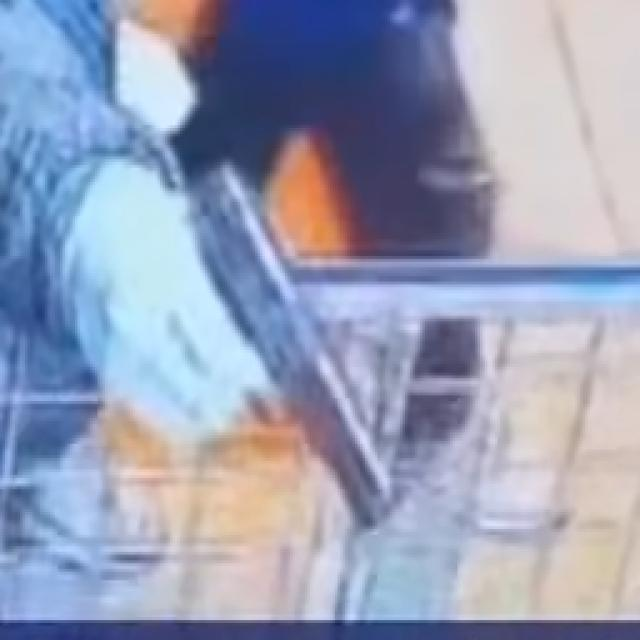FPistol: (169, 150, 432, 540)
